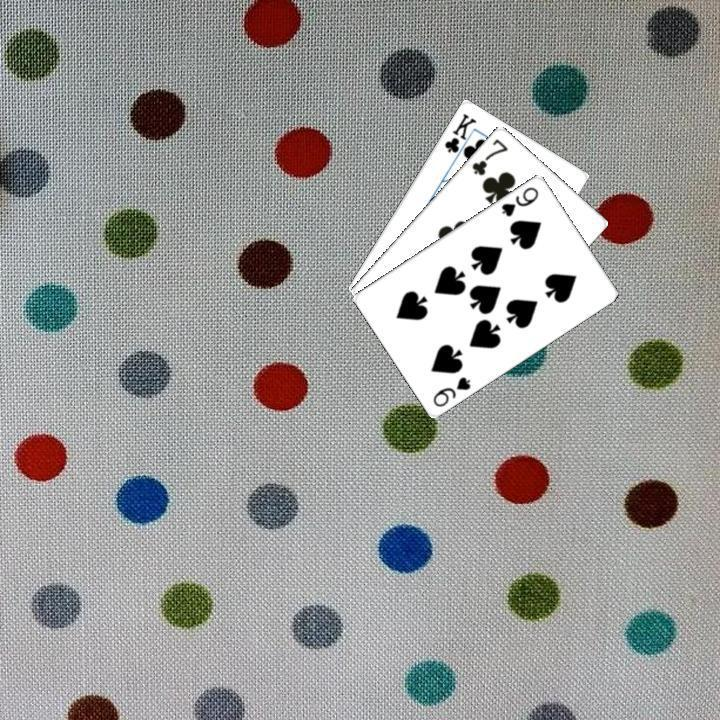7: (467, 134, 510, 177)
9: (497, 182, 541, 218), (429, 372, 473, 408)
K: (440, 109, 478, 163)
